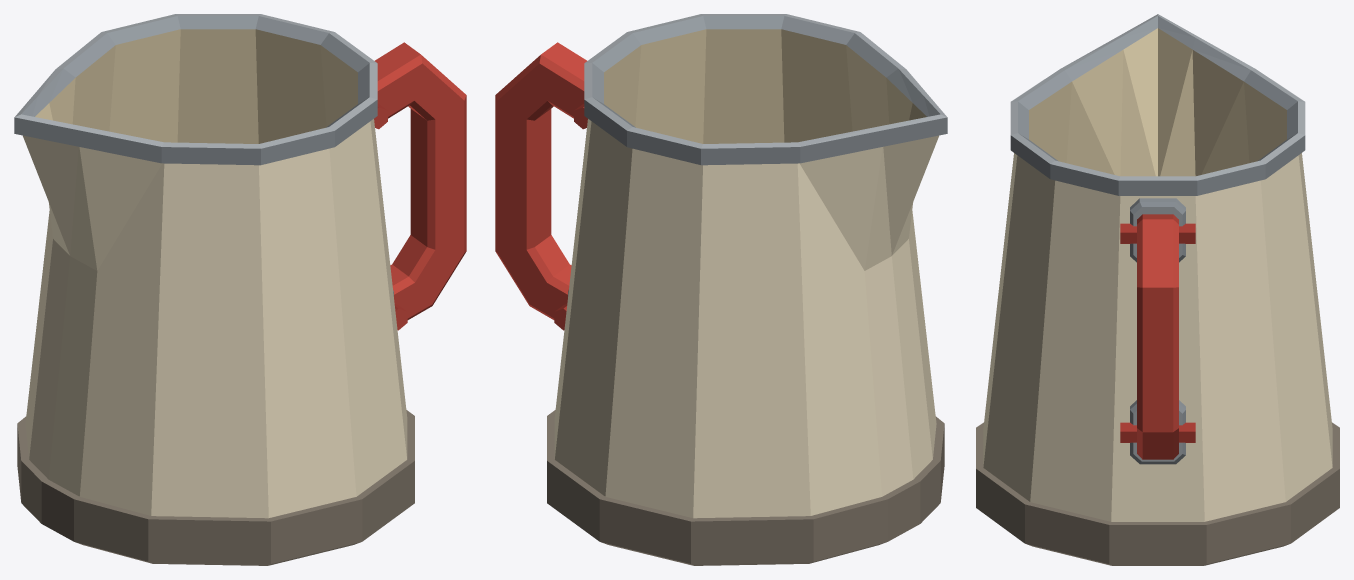
The model's file is FMS_Workshop_TOL_06.fbx.
3 renders of one model, left to right at view 1: azimuth 30°, elevation 25°; view 2: azimuth 150°, elevation 25°; view 3: azimuth 270°, elevation 25°, orthographic. The views are drawn at different scales.
Parts seen in each view (by area): view 1: FMS_Workshop_TOL_06_Body; view 2: FMS_Workshop_TOL_06_Body; view 3: FMS_Workshop_TOL_06_Body.
Boxes of the visible parts, bbox=[...] form: FMS_Workshop_TOL_06_Body: bbox=[14, 14, 466, 565]; FMS_Workshop_TOL_06_Body: bbox=[495, 14, 947, 565]; FMS_Workshop_TOL_06_Body: bbox=[976, 14, 1339, 565].
Size of the model in its own units: 0.3383 by 0.307 by 0.26.
